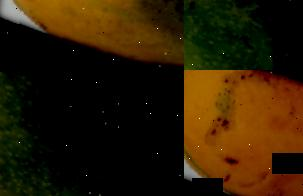PartiallyRipe: (0, 0, 184, 70)
Ripe: (184, 70, 303, 196)
Unripe: (0, 70, 184, 196), (184, 0, 303, 70)
